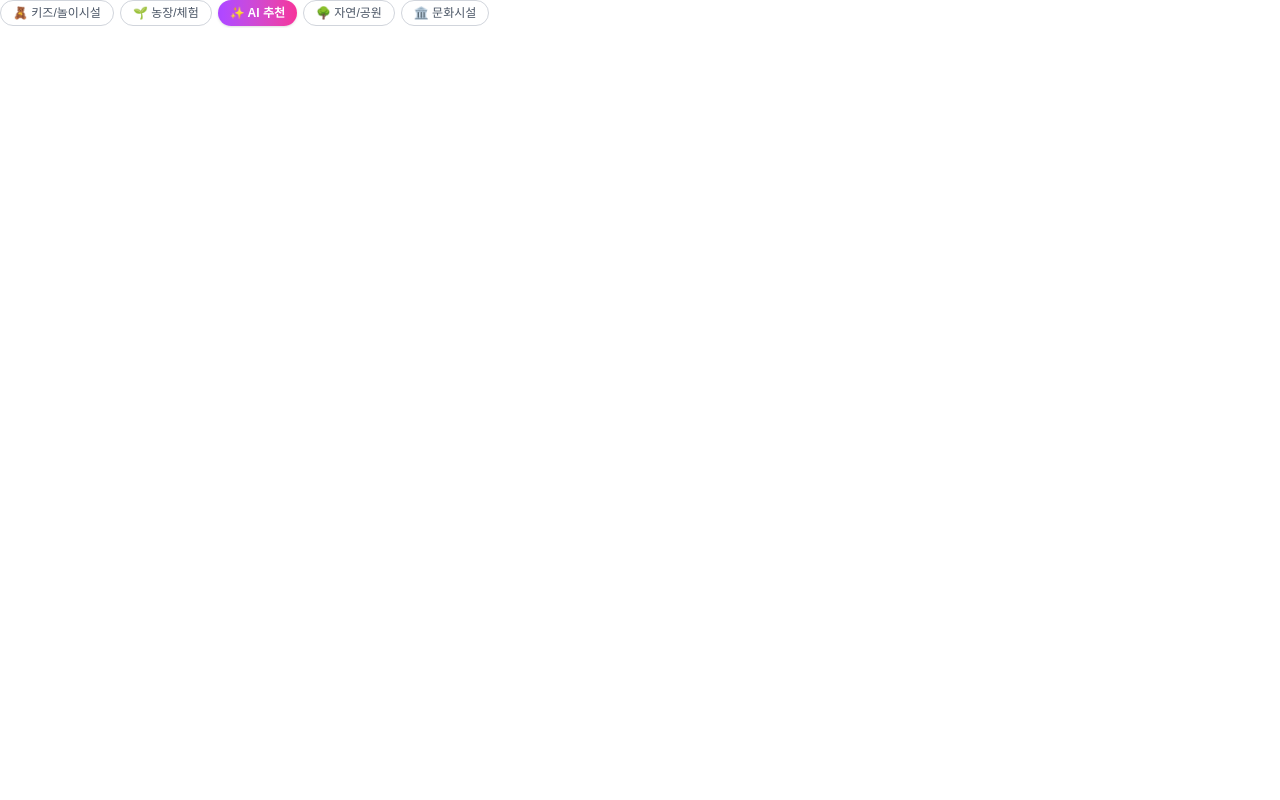
Test case: SpotCategoryFilter › 대분류 탭을 누르면 그 대분류에 속한 중분류만 바텀시트에 노출된다
This screenshot has width=1280, height=800.
Click the button "🧸 키즈/놀이시설": coordinates (57, 13) [0,0,114,26]
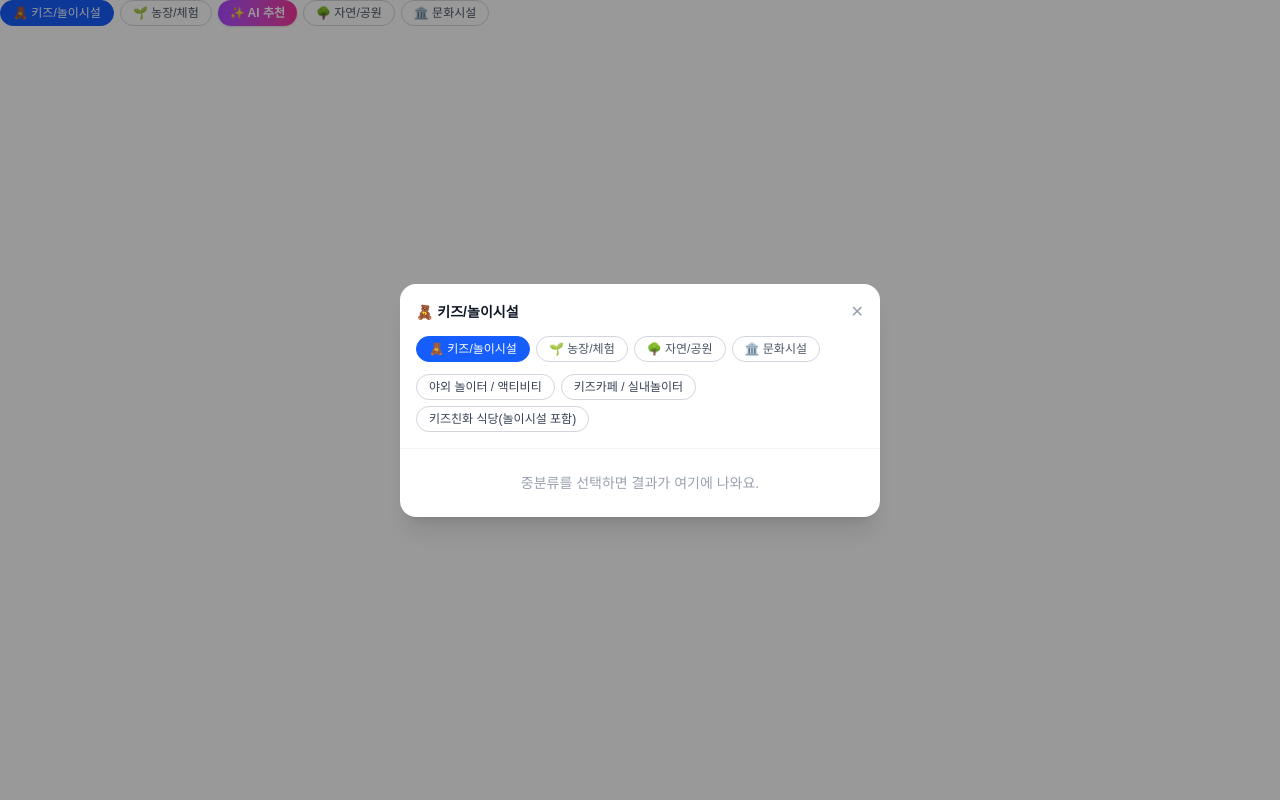
Now the button "야외 놀이터 / 액티비티" is shown, box [416,374,555,400]
Now the button "키즈카페 / 실내놀이터" is shown, box [561,374,696,400]
Now the button "키즈친화 식당(놀이시설 포함)" is shown, box [416,406,589,432]
